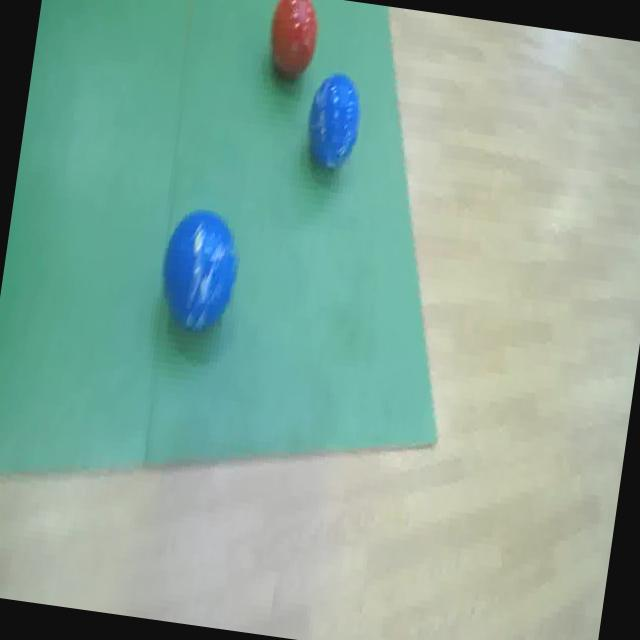blue_ball: (152, 202, 248, 345), (299, 62, 370, 180)
red_ball: (261, 0, 324, 83)
